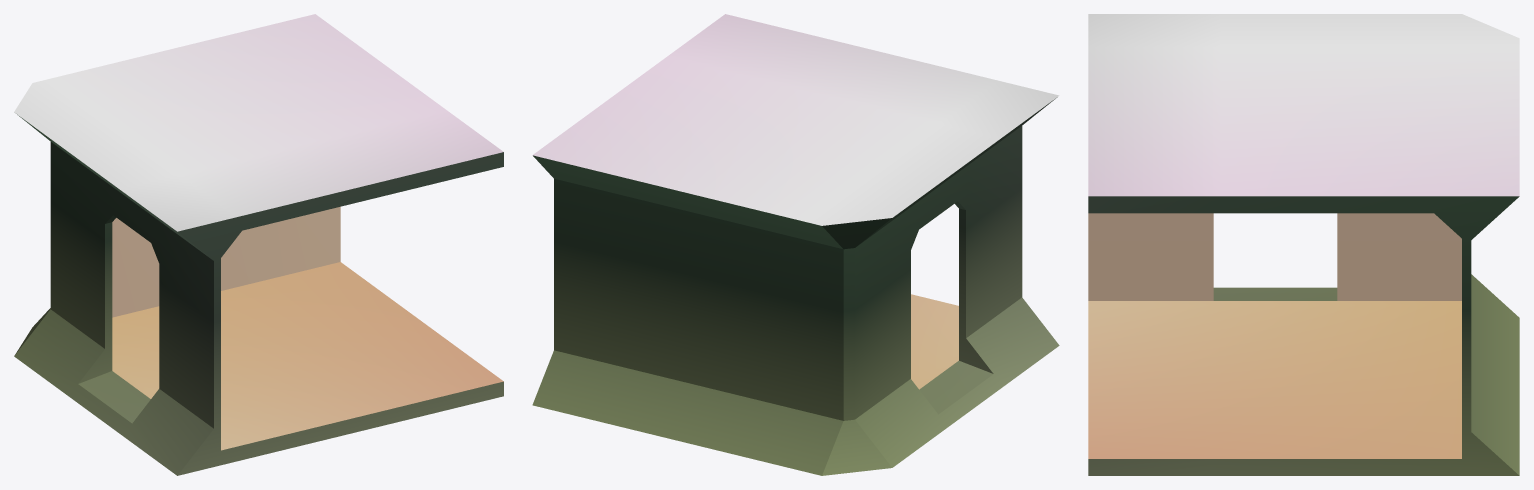
File: R_Corner_R_Door.fbx
The picture shows the model from 3 angles, left to right: view 1: azimuth 30°, elevation 25°; view 2: azimuth 150°, elevation 25°; view 3: azimuth 270°, elevation 25°; orthographic projection. The views are drawn at different scales.
Visible parts, largest first — view 1: R_Corner_R_Door; view 2: R_Corner_R_Door; view 3: R_Corner_R_Door.
Part boxes in pixels (box(x1,y1,x2,y2)): R_Corner_R_Door: box(14, 14, 503, 475); R_Corner_R_Door: box(532, 14, 1059, 475); R_Corner_R_Door: box(1088, 14, 1519, 475).
Bounding box in the file's own units: 4.62 × 4.62 × 3.3.
